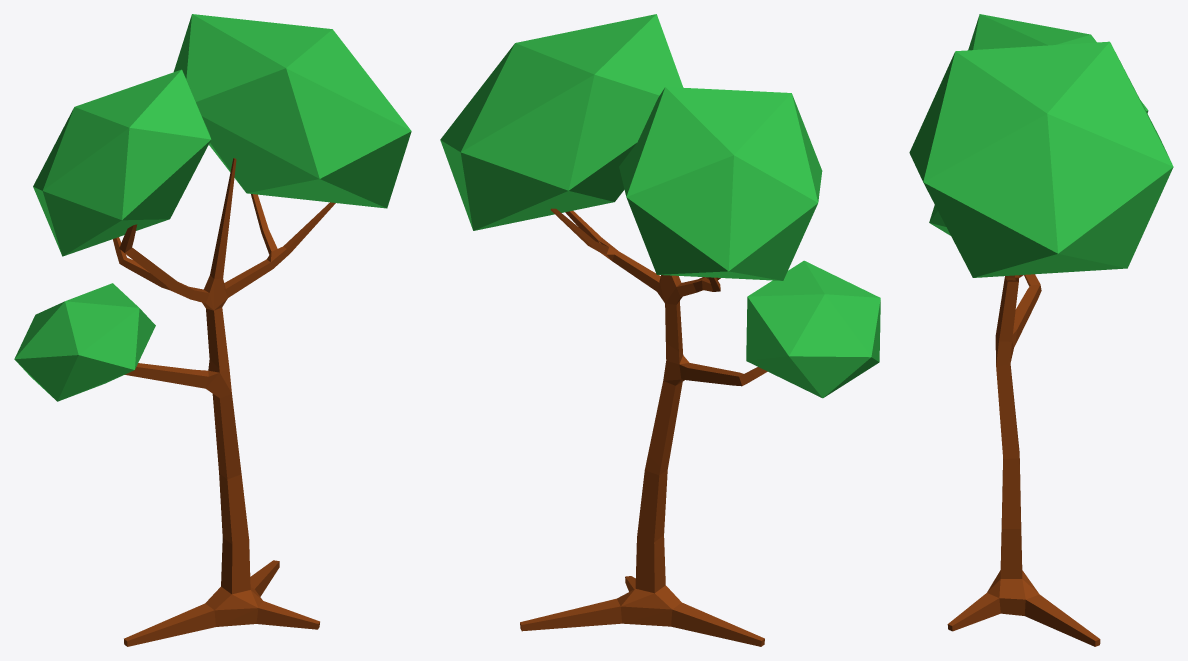
File: Tree_type_6.fbx
3 renders of one model, left to right at view 1: azimuth 30°, elevation 25°; view 2: azimuth 150°, elevation 25°; view 3: azimuth 270°, elevation 25°, orthographic. The views are drawn at different scales.
Parts seen in each view (by area): view 1: Arbre_type_1; view 2: Arbre_type_1; view 3: Arbre_type_1.
Boxes of the visible parts, bbox=[...] form: Arbre_type_1: bbox=[14, 14, 411, 646]; Arbre_type_1: bbox=[440, 14, 880, 646]; Arbre_type_1: bbox=[909, 14, 1173, 646].
Bounding box in the file's own units: 264 × 356 × 151.
